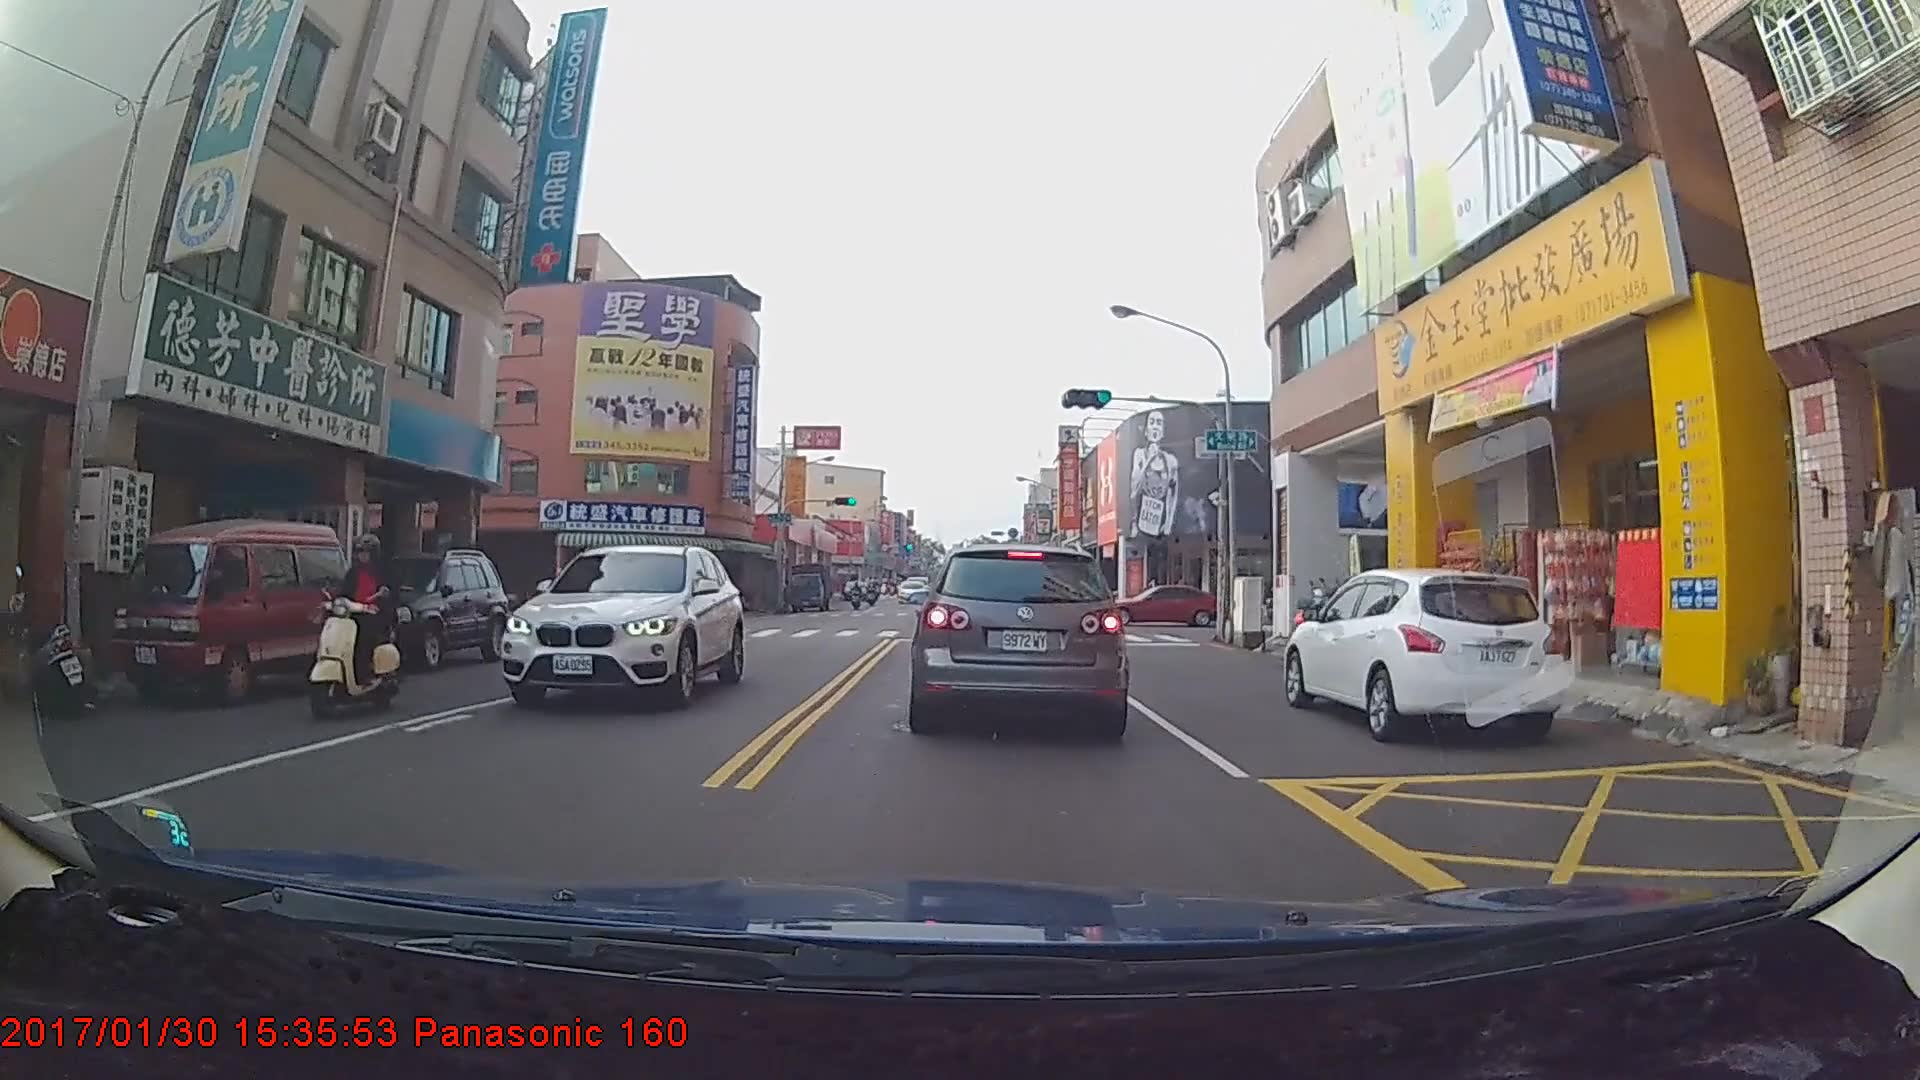rider: (307, 534, 415, 725), (846, 576, 867, 611), (847, 576, 867, 605)
vehicle: (1282, 569, 1565, 747), (906, 539, 1126, 738), (117, 525, 365, 697), (497, 545, 749, 710), (321, 548, 508, 674), (1102, 582, 1218, 628), (782, 560, 834, 610), (897, 579, 928, 604)
